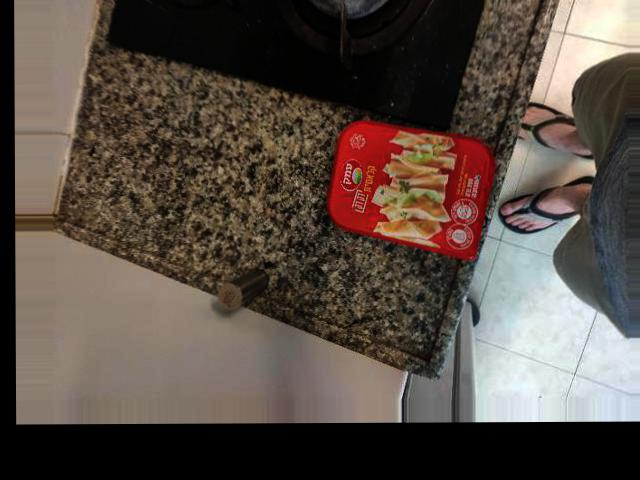cheese: (207, 113, 358, 252)
